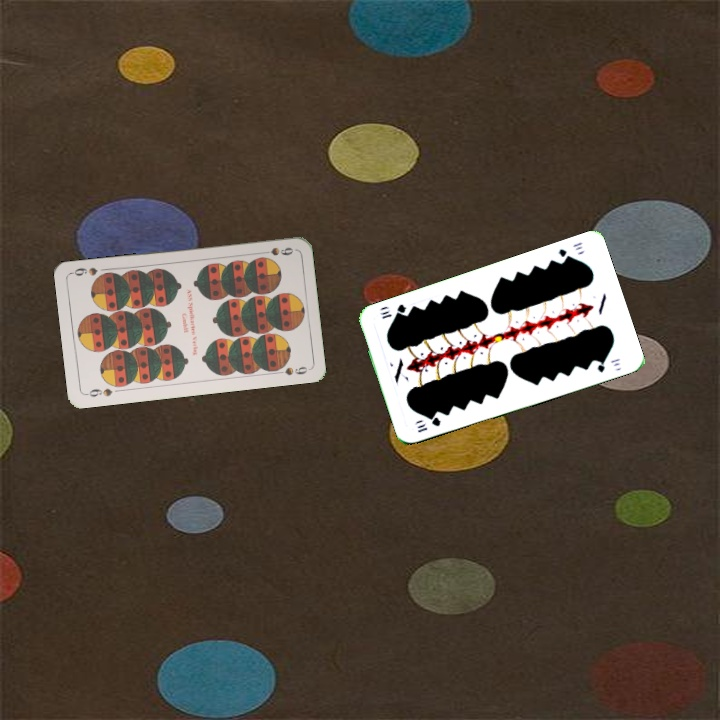G10: (554, 238, 585, 263), (414, 413, 443, 435)
S9: (256, 243, 296, 258), (82, 384, 115, 399)
